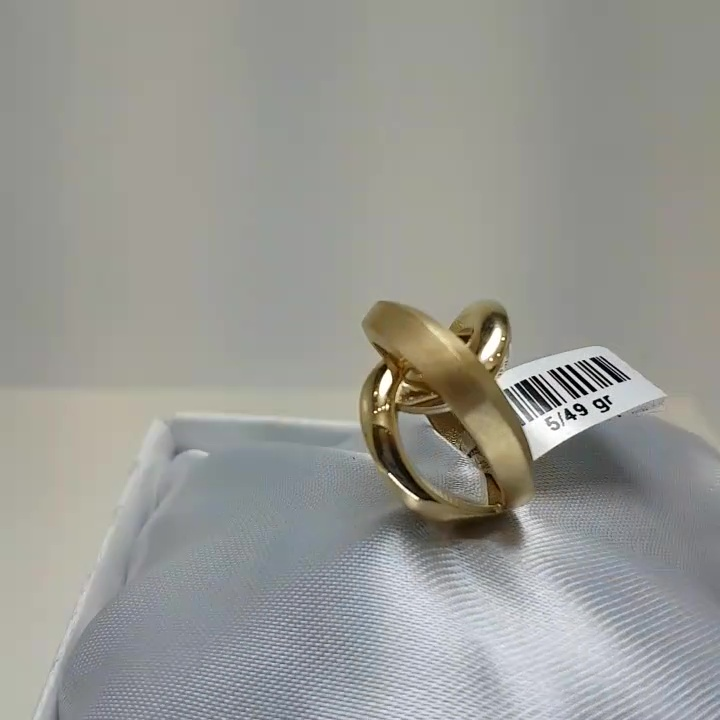Ring 3: (342, 287, 579, 553)
